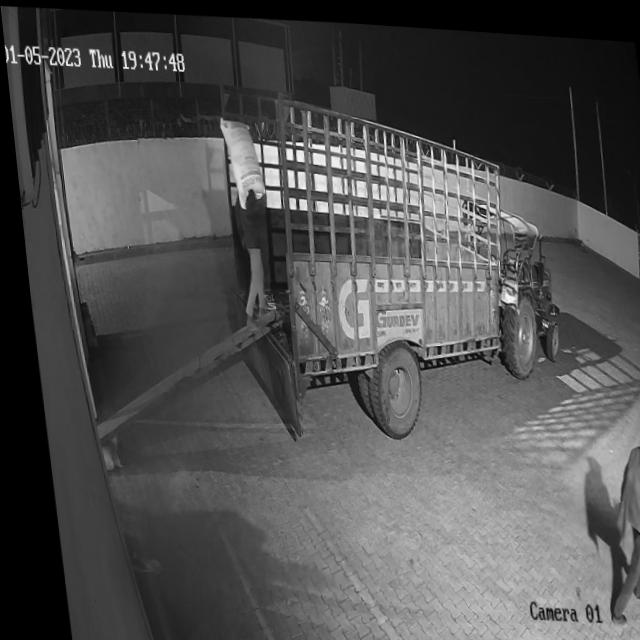sack: (217, 111, 266, 210)
